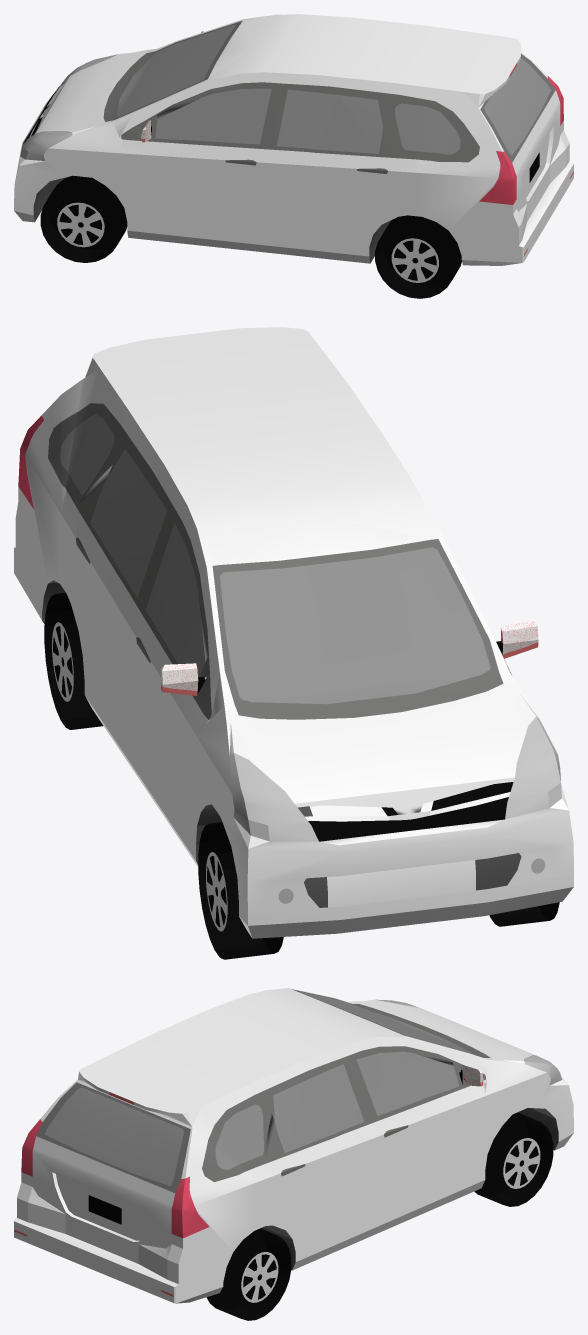
File: Avanza.fbx
The picture shows the model from 3 angles, top to bottom: view 1: azimuth 30°, elevation 25°; view 2: azimuth 150°, elevation 25°; view 3: azimuth 270°, elevation 25°; orthographic projection. The views are drawn at different scales.
Parts seen in each view (by area): view 1: instance_0, instance_0.019, instance_0.020, instance_0.040, instance_0.017, instance_0.054, instance_0.067, instance_0.005, instance_0.022, instance_0.008, instance_0.037, instance_0.039 (+6 smaller); view 2: instance_0, instance_0.017, instance_0.008, instance_0.009, instance_0.016, instance_0.028, instance_0.013, instance_0.003, instance_0.083, instance_0.039, instance_0.076, instance_0.002 (+7 smaller); view 3: instance_0, instance_0.005, instance_0.009, instance_0.016, instance_0.013, instance_0.076, instance_0.083, instance_0.012, instance_0.004, instance_0.017, instance_0.011, instance_0.010 (+6 smaller).
Part boxes in pixels (x1,y1,x2,y2): instance_0: (14, 14, 573, 265); instance_0.019: (121, 82, 479, 162); instance_0.020: (277, 89, 382, 153); instance_0.040: (155, 88, 271, 144); instance_0.017: (117, 24, 235, 116); instance_0.054: (40, 175, 127, 262); instance_0.067: (375, 215, 461, 298); instance_0.005: (484, 58, 550, 155); instance_0.022: (395, 103, 460, 154); instance_0.008: (103, 21, 242, 121); instance_0.037: (479, 151, 516, 204); instance_0.039: (20, 131, 72, 160); instance_0: (14, 327, 573, 938); instance_0.017: (220, 547, 490, 704); instance_0.008: (212, 539, 503, 719); instance_0.009: (48, 403, 211, 719); instance_0.016: (90, 449, 167, 597); instance_0.028: (309, 801, 475, 907); instance_0.013: (145, 522, 205, 677); instance_0.003: (230, 753, 318, 841); instance_0.083: (198, 822, 283, 959); instance_0.039: (505, 717, 561, 819); instance_0.076: (44, 592, 103, 729); instance_0.002: (308, 797, 508, 841); instance_0: (14, 988, 573, 1303); instance_0.005: (44, 1087, 183, 1185); instance_0.009: (202, 1046, 485, 1182); instance_0.016: (273, 1064, 364, 1152); instance_0.013: (356, 1051, 458, 1115); instance_0.076: (206, 1228, 291, 1320); instance_0.083: (474, 1112, 553, 1206); instance_0.012: (215, 1104, 263, 1169); instance_0.004: (36, 1082, 190, 1192); instance_0.017: (300, 991, 476, 1055); instance_0.011: (171, 1176, 209, 1238); instance_0.010: (260, 1108, 558, 1270).
Bounding box in the file's own units: 461 × 194 × 456.
